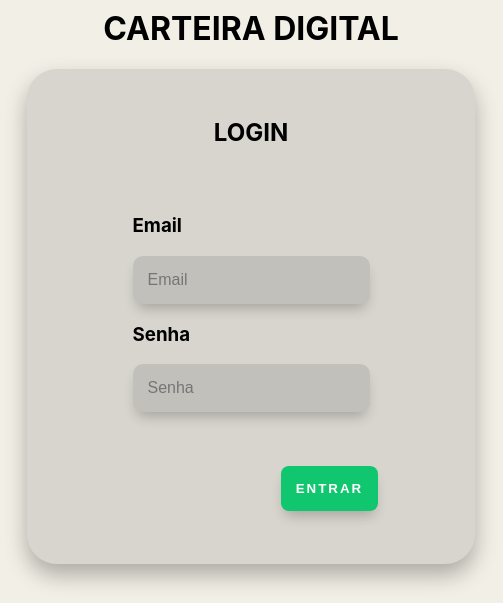
Test: Login › senha fornecida, quando vazia, mostra a mensagem de erro necessária
This screenshot has width=503, height=603.
Type "anyValue" into the password field with test id "password" at (251, 388), box [132,364,370,412]
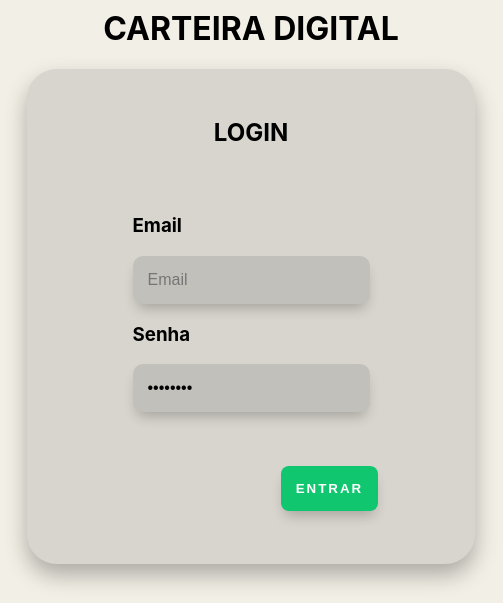
Clear the password field with test id "password" at (251, 388), box [132,364,370,412]
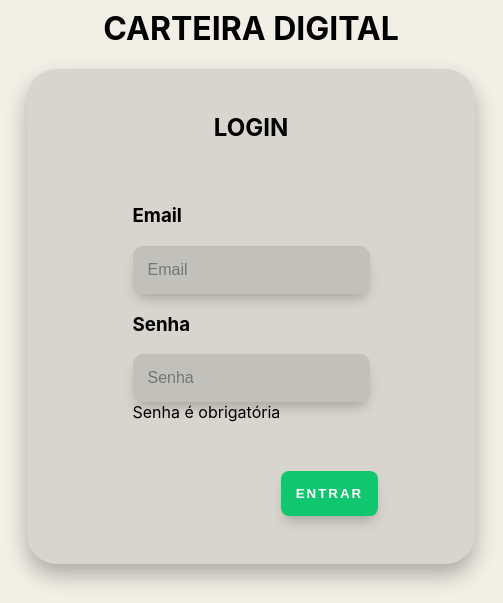
Result: the text "Senha é obrigatória" is shown at [132,402,280,422]
